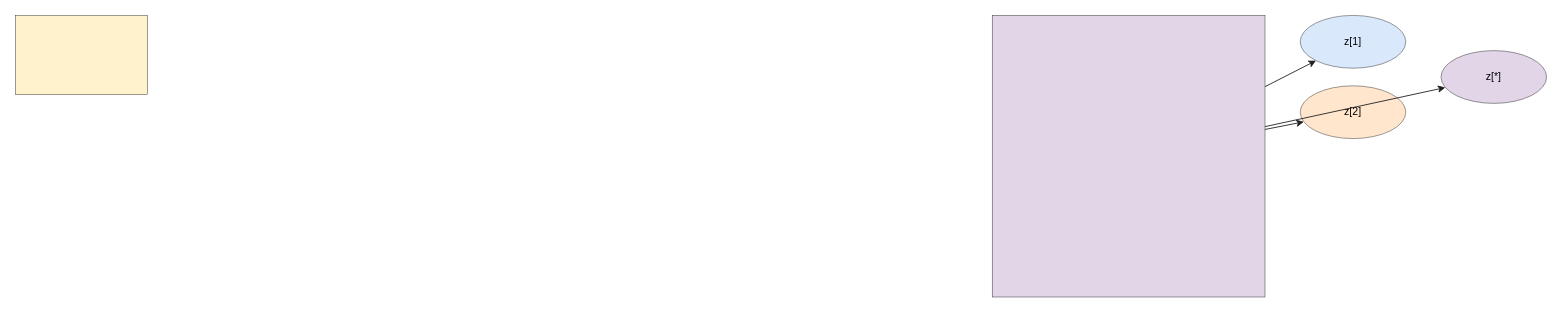
Some shapes in this 1562 by 312 pixel diagram are drawn without their labels. The box of each missing label's shape, as (x1, y1, x2, y2) in pixels:
Fusion Transformer: (992, 15, 1265, 297)
Tissue: (15, 15, 147, 94)
